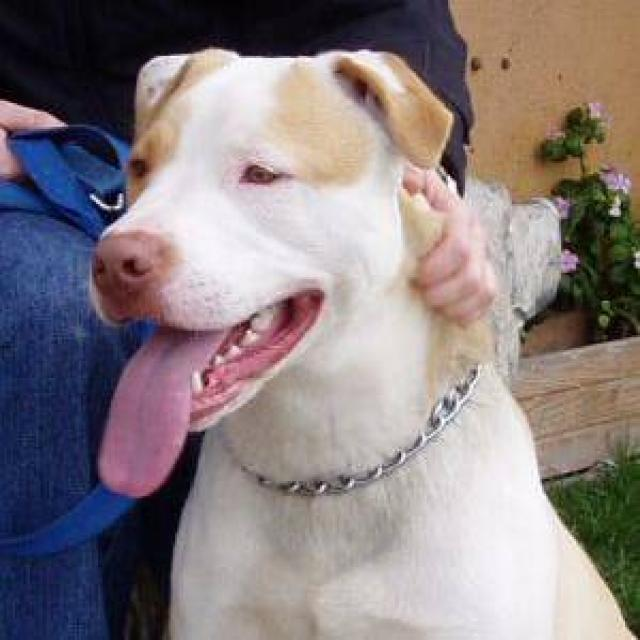dog: (87, 45, 638, 638)
